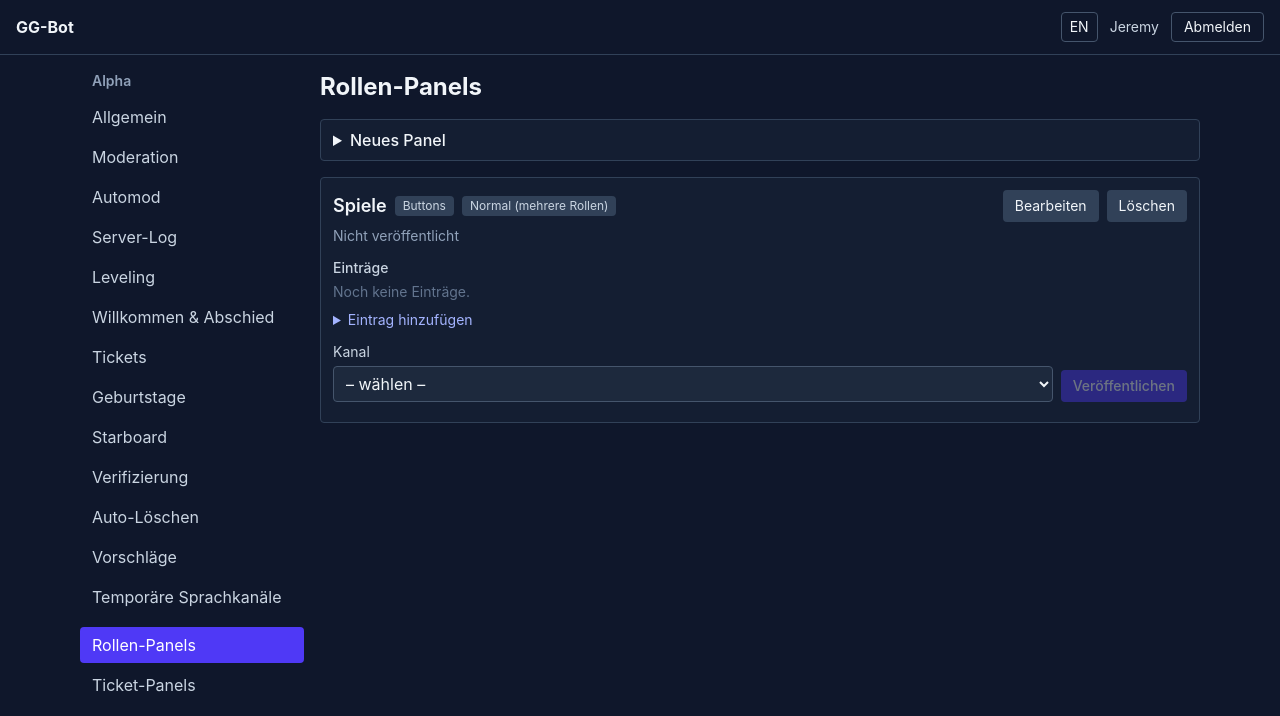
Rollen-Panels › Löschen fragt nach und bricht bei „Abbrechen“ ab
The image size is (1280, 716).
Click the button "Löschen" at (1147, 206), box [1107, 190, 1187, 222]
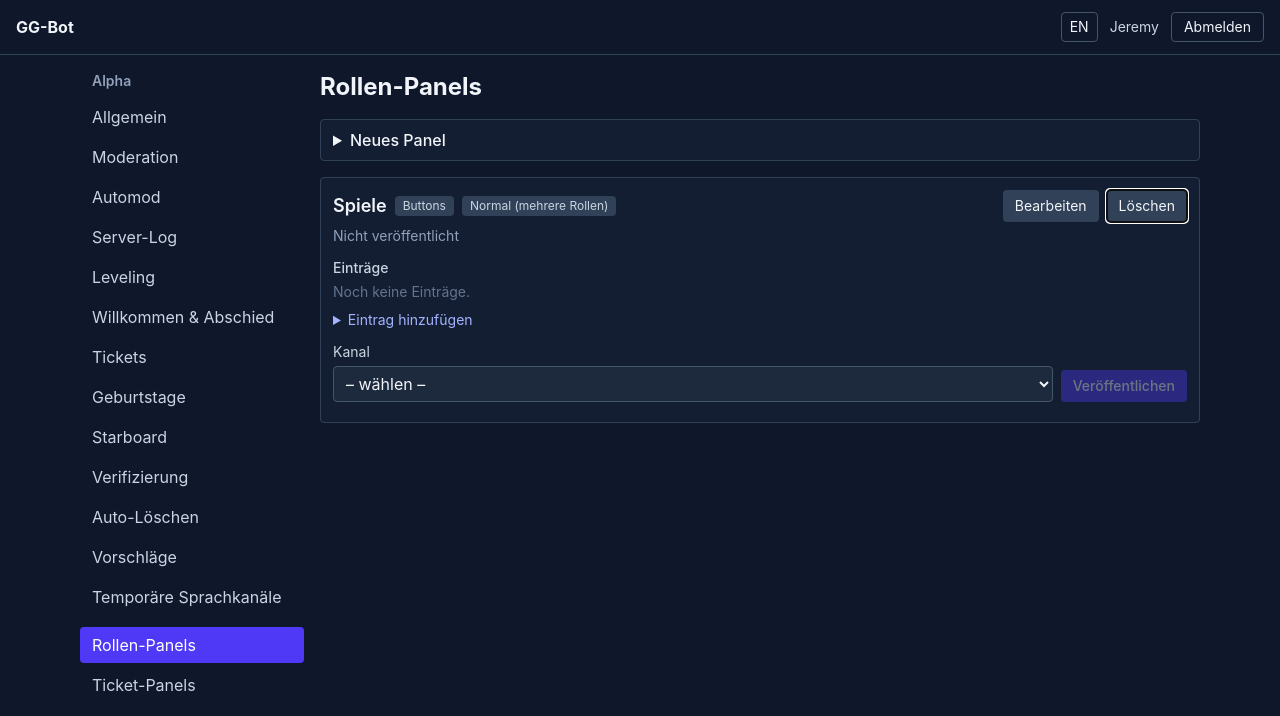
Click the button "Löschen" at (1147, 206), box [1107, 190, 1187, 222]
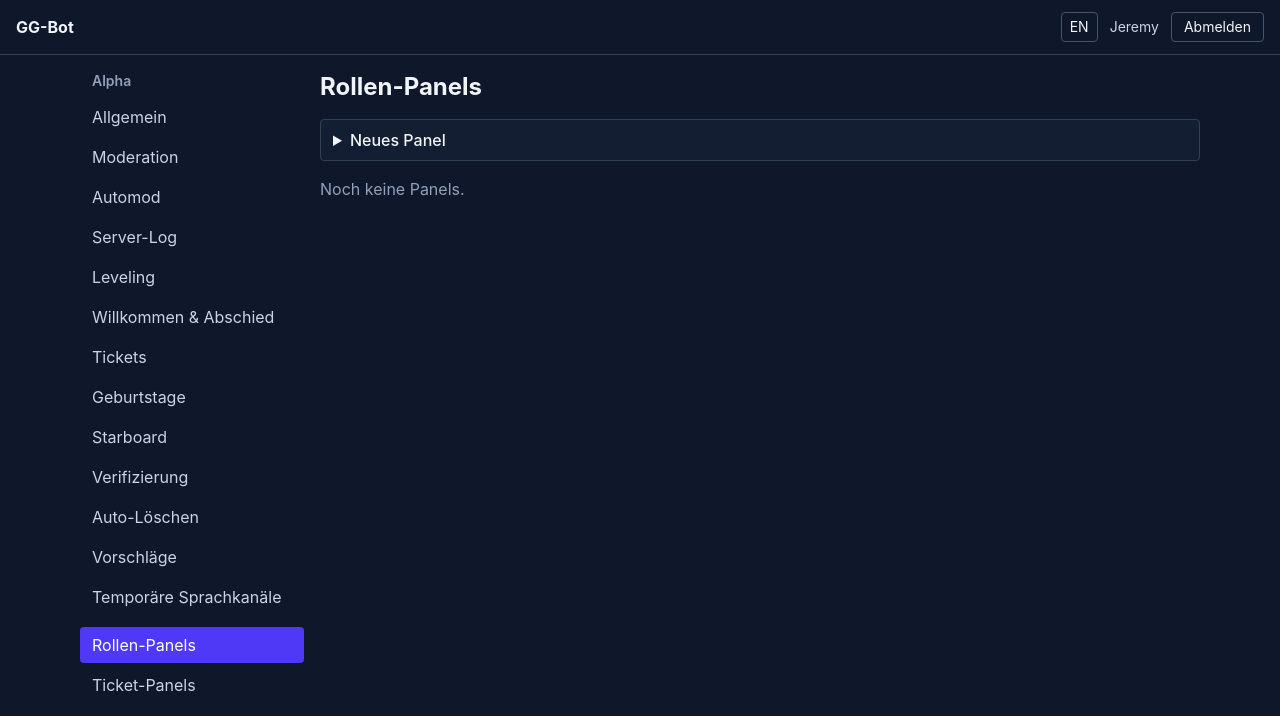
expect the text "Noch keine Panels." is shown: met, box [320, 179, 465, 199]
